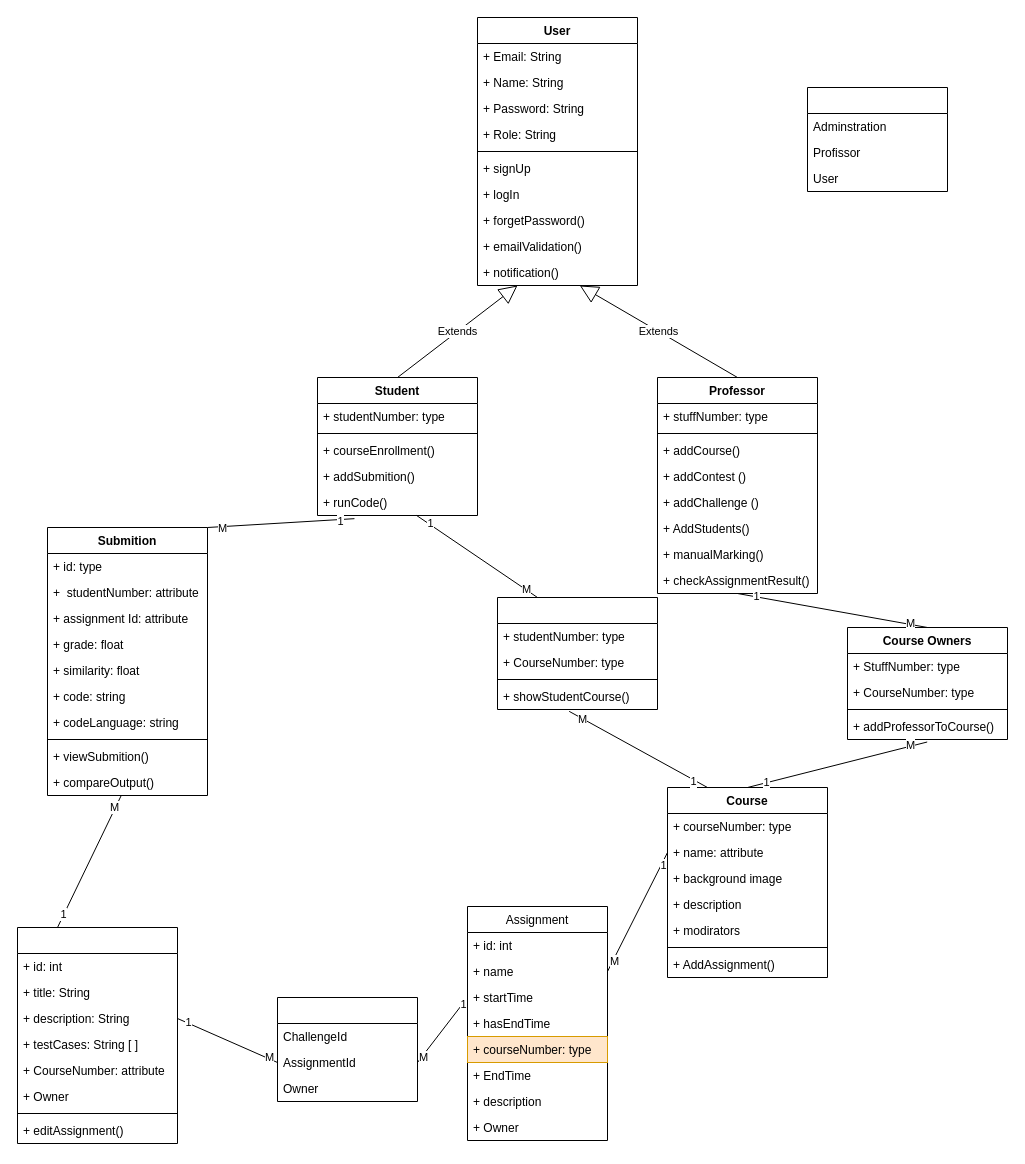
Some shapes in this 1025 by 1164 pixel diagram are drawn without their labels. Here are the shapes that lost their labels. From the top down, the box of each, then its label:
(806, 86, 948, 192): Role
(496, 596, 658, 710): Students Enrollments
(16, 926, 178, 1144): Challenge
(276, 996, 418, 1102): Challenge Assignment
